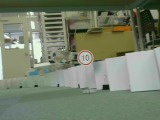speed_10: (78, 50, 95, 65)
